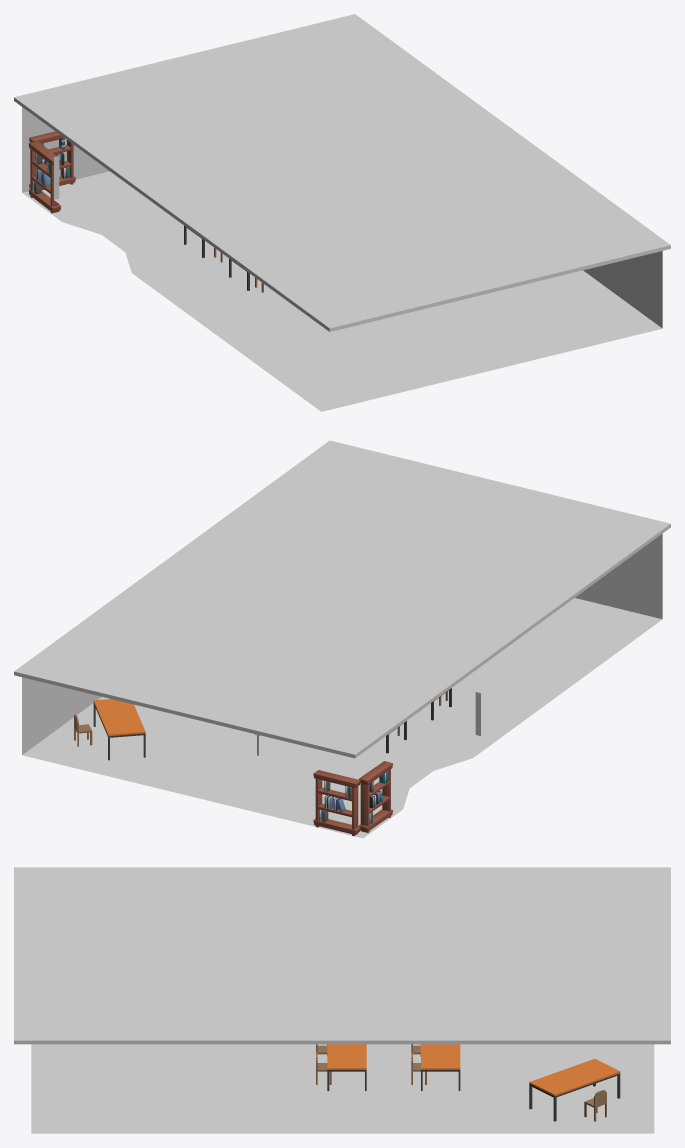
Rendered from sceneTest2.glb.
3 views of the same model, one above another, from view 1: azimuth 30°, elevation 25°; view 2: azimuth 150°, elevation 25°; view 3: azimuth 270°, elevation 25° (orthographic). The views are drawn at different scales.
Visible parts, largest first — view 1: Plane, bookcaseWideFilled.001, bookcaseWideFilled; view 2: Plane, bookcaseWideFilled, bookcaseWideFilled.001, Desk; view 3: Plane, Desk, Desk.002, Desk.004.
Part boxes in pixels (x1,y1,x2,y2): Plane: (14,14,670,411); bookcaseWideFilled.001: (28,141,61,213); bookcaseWideFilled: (29,131,75,190); Plane: (14,440,670,838); bookcaseWideFilled: (313,770,360,836); bookcaseWideFilled.001: (359,761,392,832); Desk: (93,699,145,760); Plane: (14,867,670,1133); Desk: (529,1058,620,1121); Desk.002: (420,1044,460,1090); Desk.004: (327,1044,366,1090).
Bounding box in the file's own units: 25.38 × 6.71 × 40.03.
